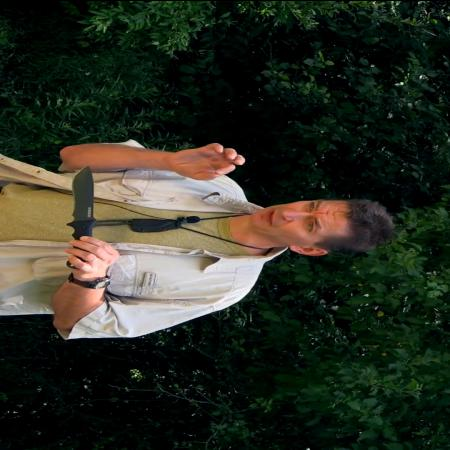long weapon: (62, 162, 122, 268)
